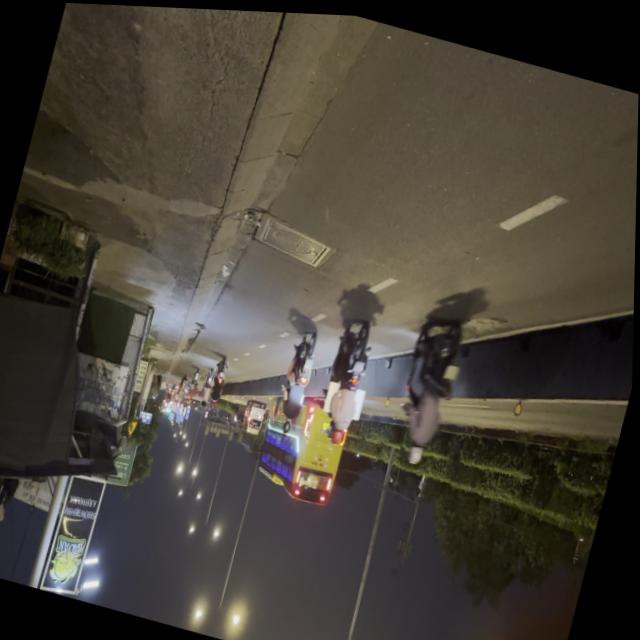helmet: (407, 437, 428, 463)
licenseplate: (384, 306, 473, 469)
nohelmet: (444, 359, 461, 377)
